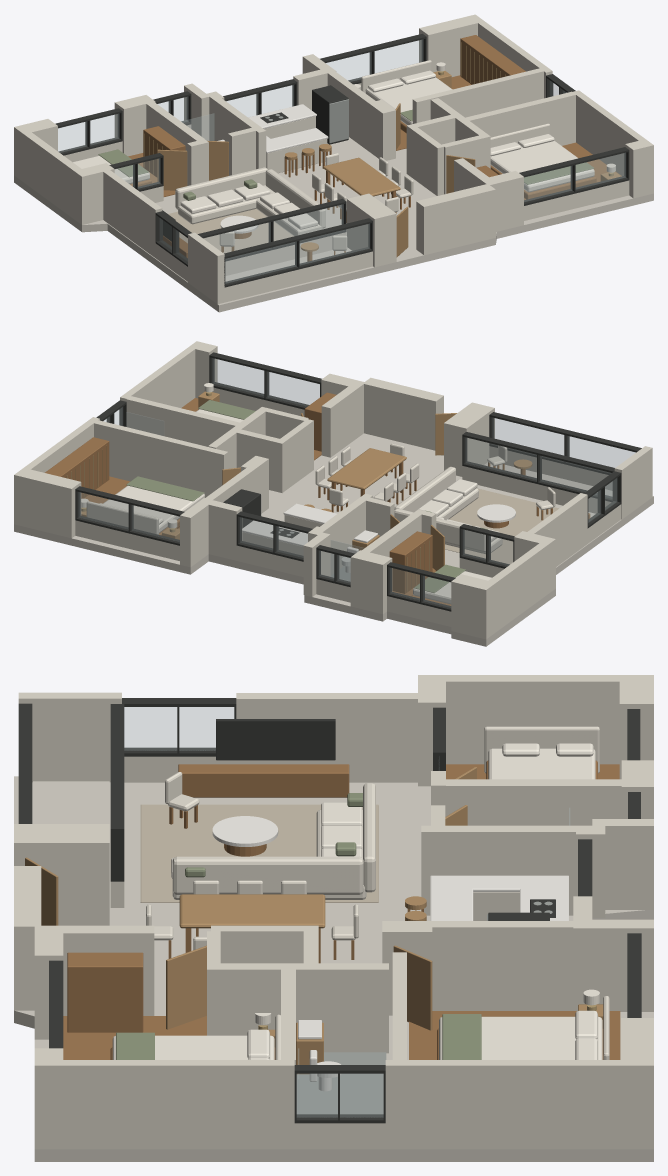
Rendered from floor-plan-showcase.glb.
3 views of the same model, one above another, from view 1: azimuth 30°, elevation 25°; view 2: azimuth 150°, elevation 25°; view 3: azimuth 270°, elevation 25° (orthographic). The views are drawn at different scales.
Visible parts, largest first — view 1: Warm ivory plaster unified solids, Continuous structural floor slab, Ivory upholstery unified solids, Balcony south glazing glazing, Living balcony glazing glazing, Southeast bedroom south window glazing, Southeast bed mattress, Master wardrobe, Ceramic unified solids, Master north window glazing, Living woven rug, Dining tabletop (+25 smaller); view 2: Warm ivory plaster unified solids, Continuous structural floor slab, Ivory upholstery unified solids, Living balcony glazing glazing, Balcony south glazing glazing, Living woven rug, Southeast bedroom south window glazing, Master north window glazing, Ceramic unified solids, Master wardrobe, West wardrobe, Dining tabletop (+26 smaller); view 3: Warm ivory plaster unified solids, Continuous structural floor slab, Ivory upholstery unified solids, Living woven rug, Ceramic unified solids, Southeast wardrobe, TV console, TV screen body, Dining tabletop, Master bed mattress, Living west glazing glazing, East bathroom window glazing (+26 smaller).
Part boxes in pixels (x1,y1,x2,y2): Warm ivory plaster unified solids: (14,14,653,304); Continuous structural floor slab: (14,137,653,312); Ivory upholstery unified solids: (175,60,549,250); Balcony south glazing glazing: (225,224,369,283); Living balcony glazing glazing: (204,204,343,253); Southeast bedroom south window glazing: (524,153,625,201); Southeast bed mattress: (490,140,594,192); Master wardrobe: (460,35,525,84); Ceramic unified solids: (217,104,328,233); Master north window glazing: (326,39,423,81); Living woven rug: (168,209,293,253); Dining tabletop: (323,157,400,196); Warm ivory plaster unified solids: (14,341,652,639); Continuous structural floor slab: (14,433,653,646); Ivory upholstery unified solids: (86,443,555,553); Living balcony glazing glazing: (465,437,612,497); Balcony south glazing glazing: (492,418,635,467); Living woven rug: (445,488,558,564); Southeast bedroom south window glazing: (212,358,319,406); Master north window glazing: (78,492,179,541); Ceramic unified solids: (242,503,515,572); Master wardrobe: (45,437,109,498); West wardrobe: (389,531,432,593); Dining tabletop: (327,448,406,489); Warm ivory plaster unified solids: (14,675,653,1149); Continuous structural floor slab: (14,776,653,1161); Ivory upholstery unified solids: (146,726,609,1059); Living woven rug: (140,804,378,902); Ceramic unified solids: (212,816,568,1091); Southeast wardrobe: (67,952,143,1032); TV console: (178,764,349,797); TV screen body: (216,719,335,760); Dining tabletop: (179,894,325,928); Master bed mattress: (439,1016,602,1059); Living west glazing glazing: (124,707,233,750); East bathroom window glazing: (297,1074,383,1117).
Size of the model in its own units: 13.5 by 1.55 by 9.35.
